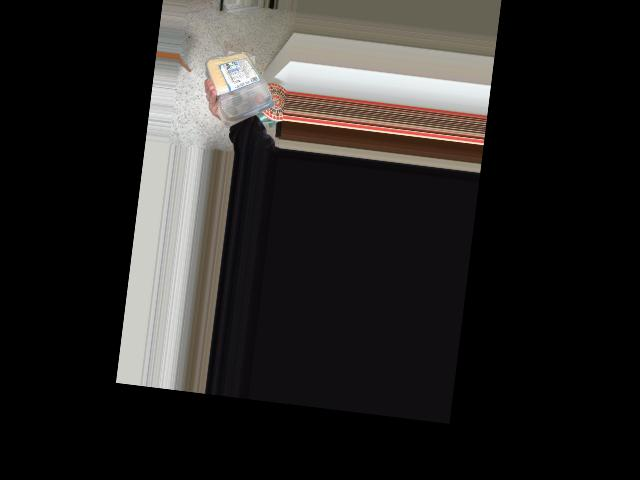cheese: (207, 41, 282, 123)
